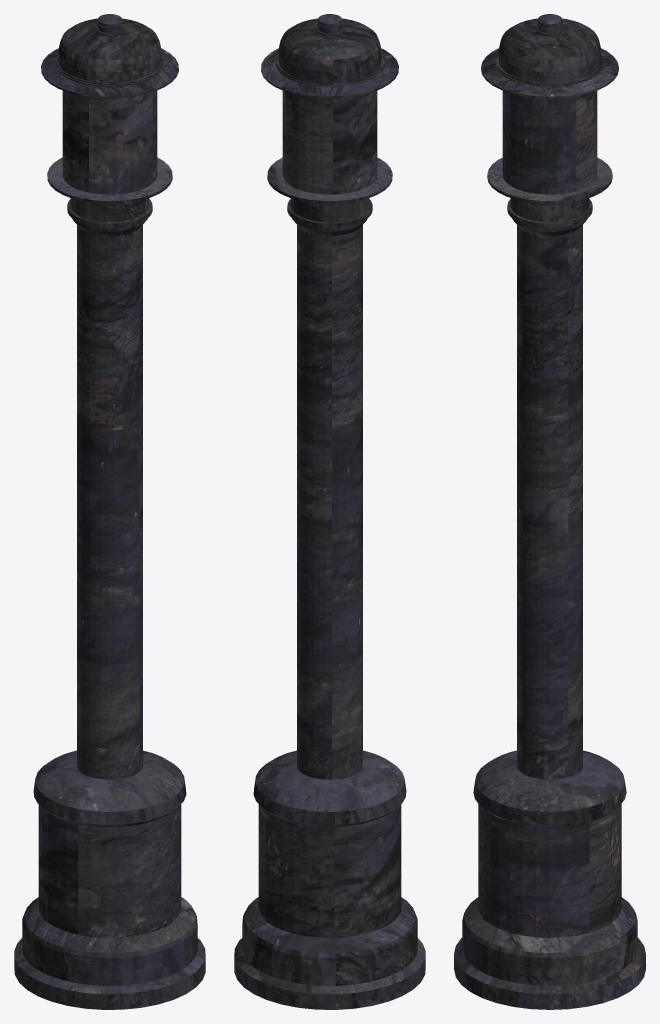
File: lightpost.obj
The picture shows the model from 3 angles, left to right: view 1: azimuth 30°, elevation 25°; view 2: azimuth 150°, elevation 25°; view 3: azimuth 270°, elevation 25°; orthographic projection.
Parts seen in each view (by area): view 1: Circle; view 2: Circle; view 3: Circle.
Boxes of the visible parts, <box> form: Circle: <box>14,14,205,1009</box>; Circle: <box>234,14,425,1009</box>; Circle: <box>454,14,645,1009</box>.
Size of the model in its own units: 2 by 10.95 by 2.
